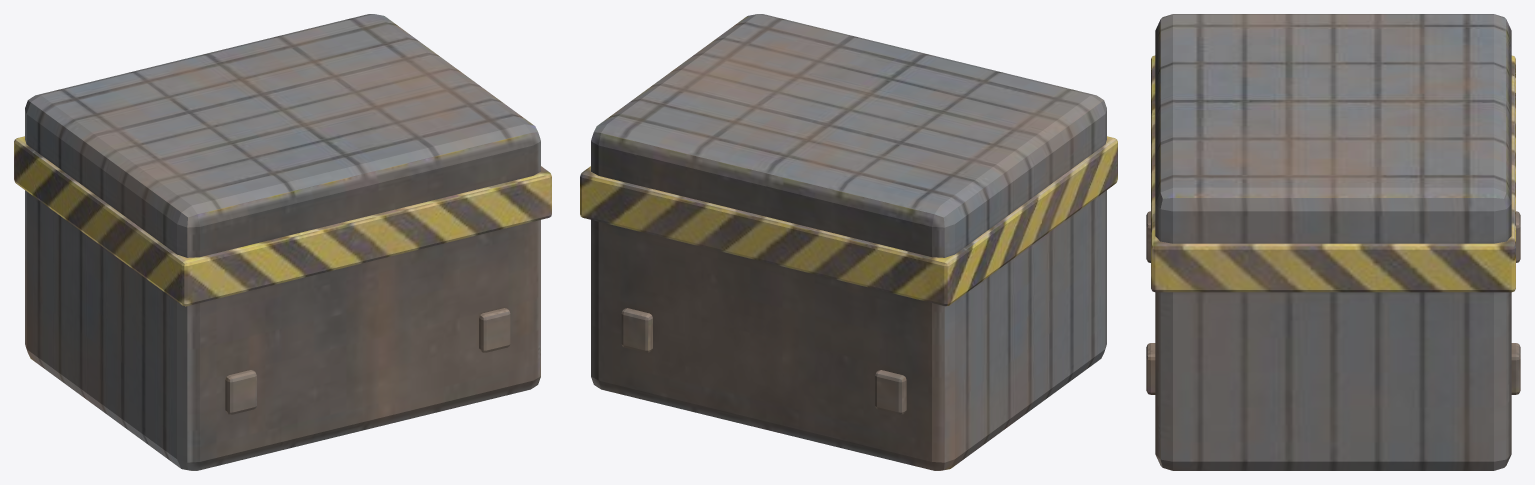
File: crate.glb
3 renders of one model, left to right at view 1: azimuth 30°, elevation 25°; view 2: azimuth 150°, elevation 25°; view 3: azimuth 270°, elevation 25°, orthographic. The views are drawn at different scales.
Visible parts, largest first — view 1: crate; view 2: crate; view 3: crate.
Boxes of the visible parts, x1,y1,x2,y2 form: crate: (14,14,551,470); crate: (580,14,1117,470); crate: (1146,14,1520,470).
Bounding box in the file's own units: 0.51 × 0.35 × 0.42.
Materials: 1 (1 with a texture image).
